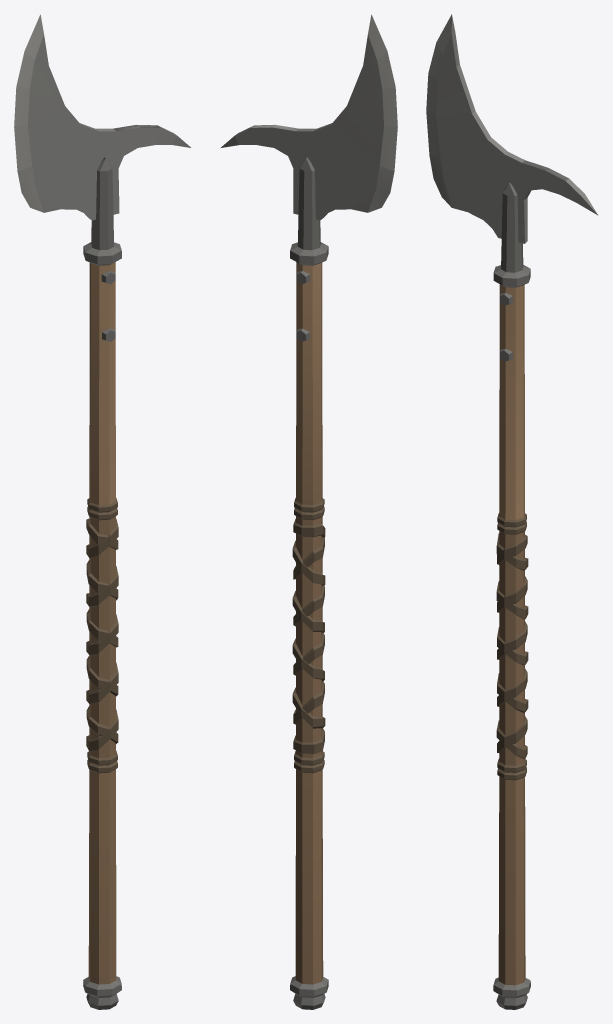
The model's file is SM_pwe_medieval_halberd_10.fbx.
3 views of the same model, side by side, from view 1: azimuth 30°, elevation 25°; view 2: azimuth 150°, elevation 25°; view 3: azimuth 330°, elevation 25° (orthographic). The views are drawn at different scales.
Visible parts, largest first — view 1: SM_pwe_medieval_halberd_10; view 2: SM_pwe_medieval_halberd_10; view 3: SM_pwe_medieval_halberd_10.
Boxes of the visible parts, x1,y1,x2,y2 form: SM_pwe_medieval_halberd_10: [14, 14, 190, 1009]; SM_pwe_medieval_halberd_10: [221, 14, 397, 1009]; SM_pwe_medieval_halberd_10: [426, 14, 598, 1009].
Bounding box in the file's own units: 32.26 × 175 × 6.32.
